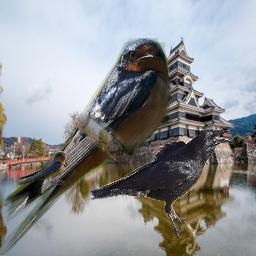Crow: (90, 129, 233, 240)
Swallow: (0, 38, 171, 255), (9, 151, 68, 185)
